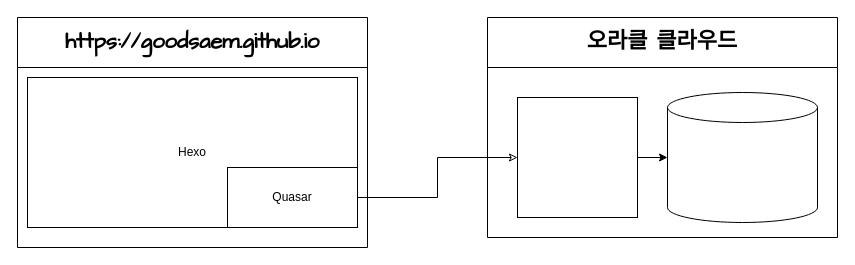
This 855x265 diagram has some shape labels left out. The centre of each missing label's shape, as x and y in pixels:
"SpringBoot" goes at point (577, 157).
"오라클 자율 데이터 베이스" goes at point (742, 157).
